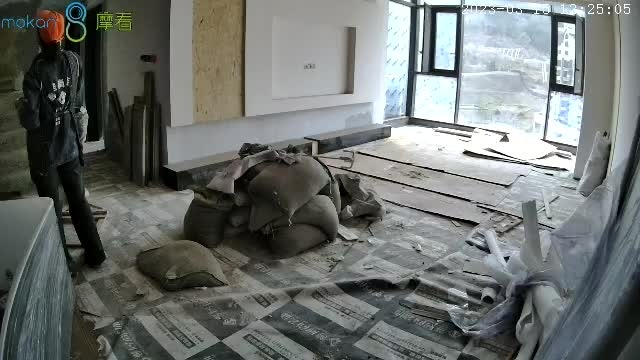people: (16, 9, 106, 267)
window: (385, 1, 584, 149)
